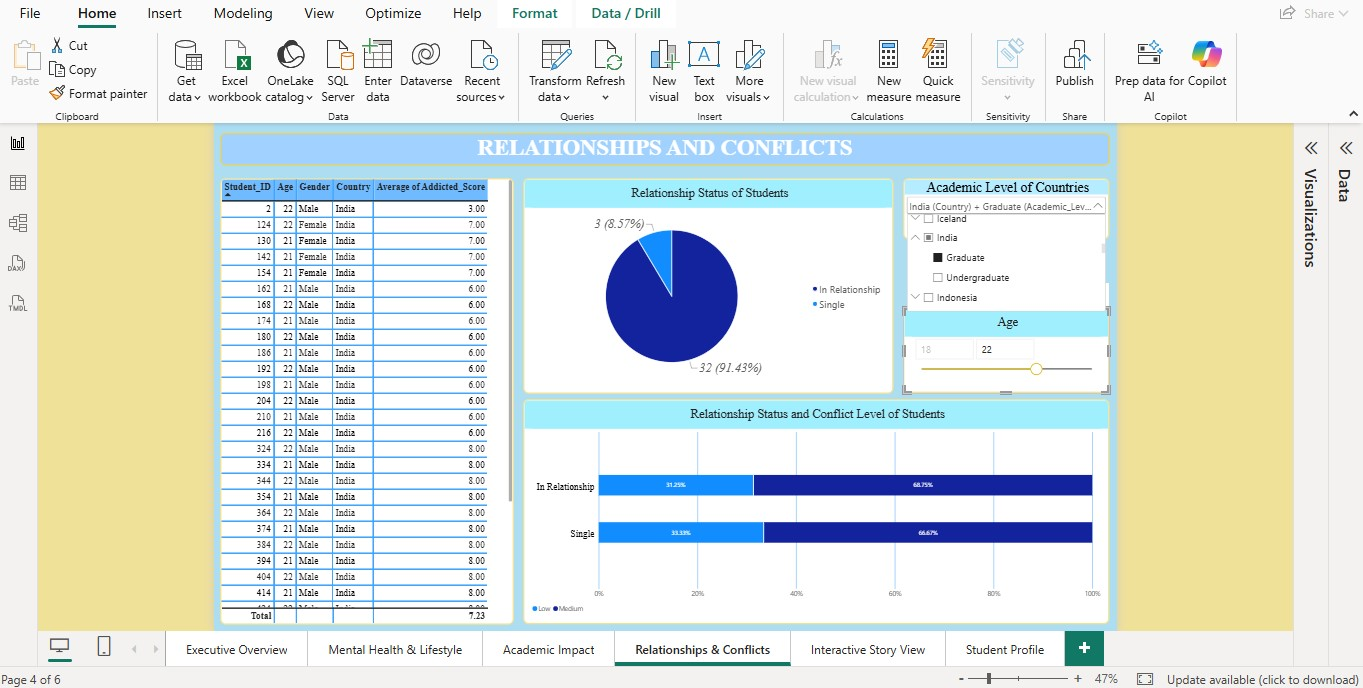

Layout of this report page (visuals, bound fields, positions):
{"tool":"powerbi","page":{"name":"Relationships & Conflicts","canvas":[1920,1080],"ordinal":3},"visuals":[{"type":"hundredPercentStackedBarChart","title":"Relationship Status and Conflict Level of Students","fields":{"Category":["Student_Details.Relationship_Status"],"Series":["Student_Details.Conflict Level"],"Y":["CountNonNull(Platform_Details.Student_ID)"]},"box":[657.1,587.7,1247.2,478.6],"z":0},{"type":"tableEx","fields":{"Values":["Platform_Details.Student_ID","Student_Details.Age","Student_Details.Gender","Student_Details.Country","Avg(Student_Details.Addicted_Score)"]},"box":[12.4,116.5,624.8,949.7],"z":1000},{"type":"pieChart","title":"Relationship Status of Students","fields":{"Category":["Student_Details.Relationship_Status"],"Y":["CountNonNull(Platform_Details.Student_ID)"]},"box":[657.1,116.5,788.5,458.7],"z":2000},{"type":"slicer","title":"Academic Level of Countries","fields":{"Values":["Student_Details.Country","Student_Details.Academic_Level"]},"box":[1465.4,116.5,438.9,131.4],"z":3000},{"type":"slicer","title":"Age","fields":{"Values":["Student_Details.Age"]},"box":[1465.4,391.8,438.9,183.5],"z":4000},{"type":"textbox","box":[12.4,22.3,1891.9,69.4],"z":5000}]}

Visuals, with their boxes on the page's 1920x1080 design canvas (x1, y1, x2, y2). These are canvas units, not pixel positions in the 1363x688 screenshot, which may show the page scaled, cropped or inside an application window:
"Relationship Status and Conflict Level of Students" hundredPercentStackedBarChart: box=[657, 588, 1904, 1066]
tableEx - Platform_Details.Student_ID x Student_Details.Age: box=[12, 116, 637, 1066]
"Relationship Status of Students" pieChart: box=[657, 116, 1446, 575]
"Academic Level of Countries" slicer: box=[1465, 116, 1904, 248]
"Age" slicer: box=[1465, 392, 1904, 575]
textbox: box=[12, 22, 1904, 92]
